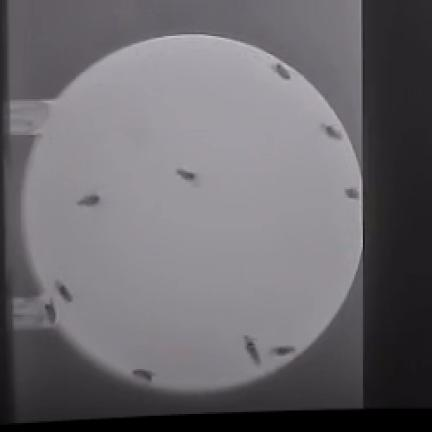fly: (244, 335, 260, 365), (56, 281, 72, 302), (322, 125, 342, 140), (45, 299, 57, 323), (274, 63, 290, 79), (270, 346, 295, 356), (78, 195, 100, 206), (134, 369, 153, 381), (177, 170, 196, 181), (346, 188, 359, 199)
